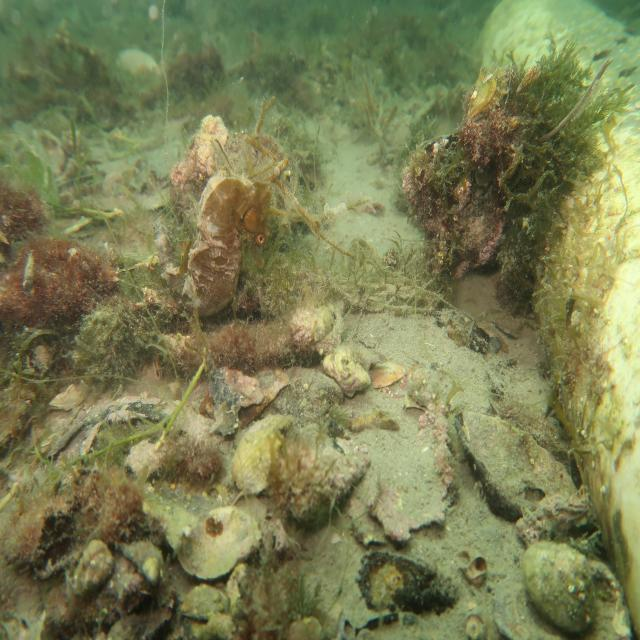Hippo: (237, 180, 280, 271)
